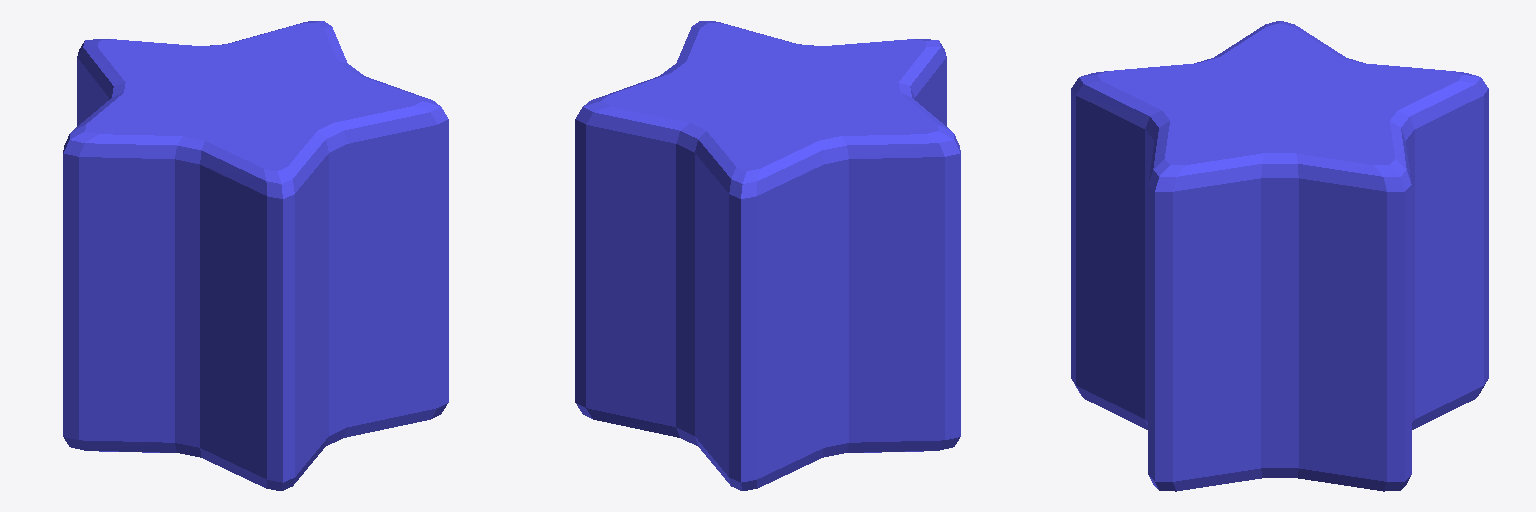
URDF robot description (star.urdf):
<?xml version="1.0" ?>
<robot name="star.urdf">
  <link name="baseLink">
    <contact>
      <lateral_friction value="0.5"/>
      <rolling_friction value="0.0001"/>
      <inertia_scaling value="1.0"/>
    </contact>
    <inertial>
      <origin rpy="0 0 0" xyz="0 0 0"/>
       <mass value=".01"/>
       <inertia ixx="1" ixy="0" ixz="0" iyy="1" iyz="0" izz="1"/>
    </inertial>
    <visual>
      <origin rpy="0 0 0" xyz="0 0 0"/>
      <geometry>
        <mesh filename="star.obj" scale="1.0 1.0 1.0"/>
      </geometry>
       <material name="blue">
        <color rgba="0.4 0.4 1.0 1"/>
      </material>
    </visual>
    <collision>
      <origin rpy="0 0 0" xyz="0 0 0"/>
      <geometry>
        <mesh filename="star.obj" scale="1.0 1.0 1.0"/>
      </geometry>
    </collision>
  </link>
</robot>

--- What the picture shows (computed from the rendered views, not written in the file) ---
Views: 3 orthographic renders of the robot side by side, from view 1: azimuth 30°, elevation 25°; view 2: azimuth 150°, elevation 25°; view 3: azimuth 270°, elevation 25°.
Model star.urdf with 1 links and 0 joints (none), rooted at baseLink, posed all joints at 0.
Links seen in each view (by area): view 1: baseLink; view 2: baseLink; view 3: baseLink.
Link boxes in pixels (x1,y1,x2,y2): baseLink: [63, 21, 448, 490]; baseLink: [575, 21, 960, 490]; baseLink: [1071, 21, 1488, 491].
Size in the robot's own frame: 0.0429 by 0.0466 by 0.04 metres.
Meshes: 1 distinct files referenced, 1 mesh visuals loaded (1 OBJ).
